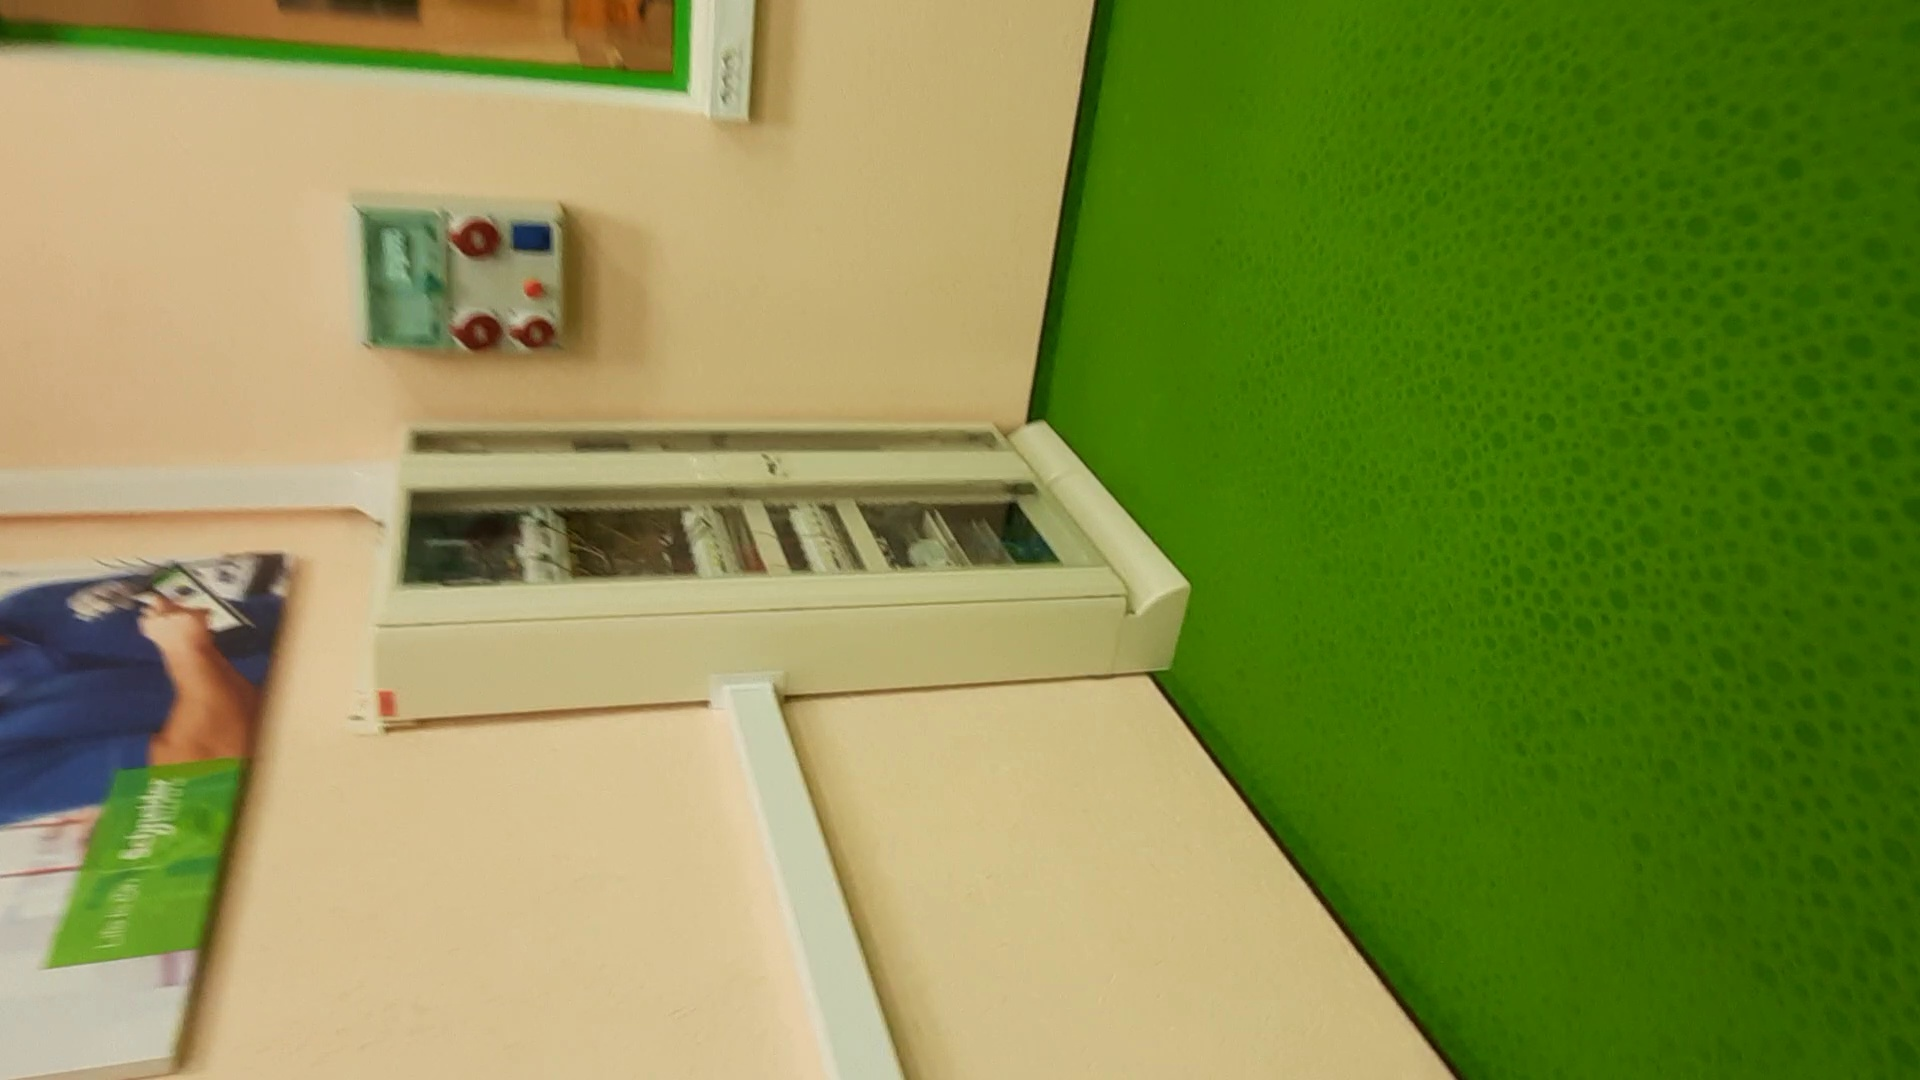stand1: (367, 402, 1189, 719)
